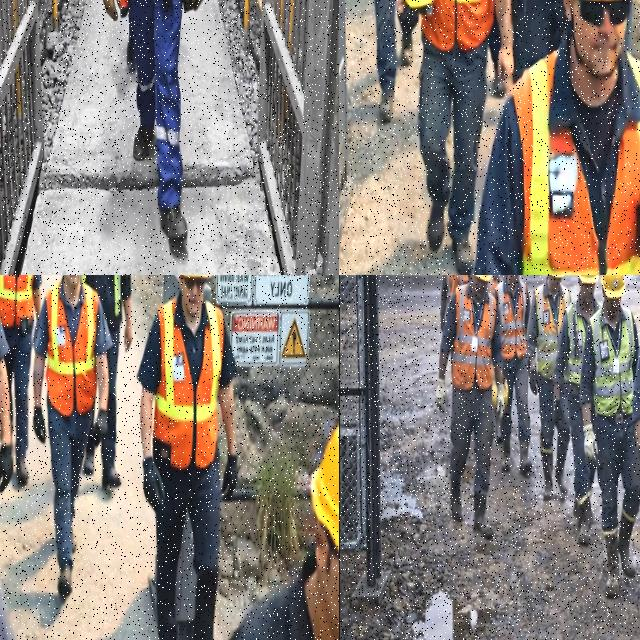Vest: (513, 53, 598, 274), (153, 300, 223, 469), (45, 281, 98, 416), (590, 308, 634, 417), (451, 285, 495, 390), (421, 0, 493, 51), (534, 284, 570, 379), (497, 280, 526, 361), (563, 300, 585, 386), (0, 275, 33, 327), (451, 275, 469, 292), (113, 275, 120, 316), (444, 275, 453, 303)
Worker: (474, 0, 639, 274), (137, 275, 236, 639), (418, 0, 511, 274), (33, 275, 111, 599), (230, 425, 338, 639), (580, 275, 639, 597), (435, 275, 505, 539), (129, 0, 186, 248), (553, 275, 599, 545), (82, 275, 131, 488), (527, 275, 570, 500), (0, 275, 41, 485), (496, 274, 530, 476), (513, 0, 565, 79), (374, 0, 396, 122), (0, 322, 12, 491), (489, 22, 505, 97), (440, 275, 453, 331), (633, 345, 639, 459), (0, 588, 13, 639), (450, 275, 471, 292), (490, 275, 505, 292)
helmet: (311, 425, 338, 552), (601, 275, 624, 299), (404, 0, 433, 9), (577, 275, 597, 283), (473, 275, 491, 282), (182, 275, 212, 278), (550, 275, 564, 278), (585, 0, 616, 1)
